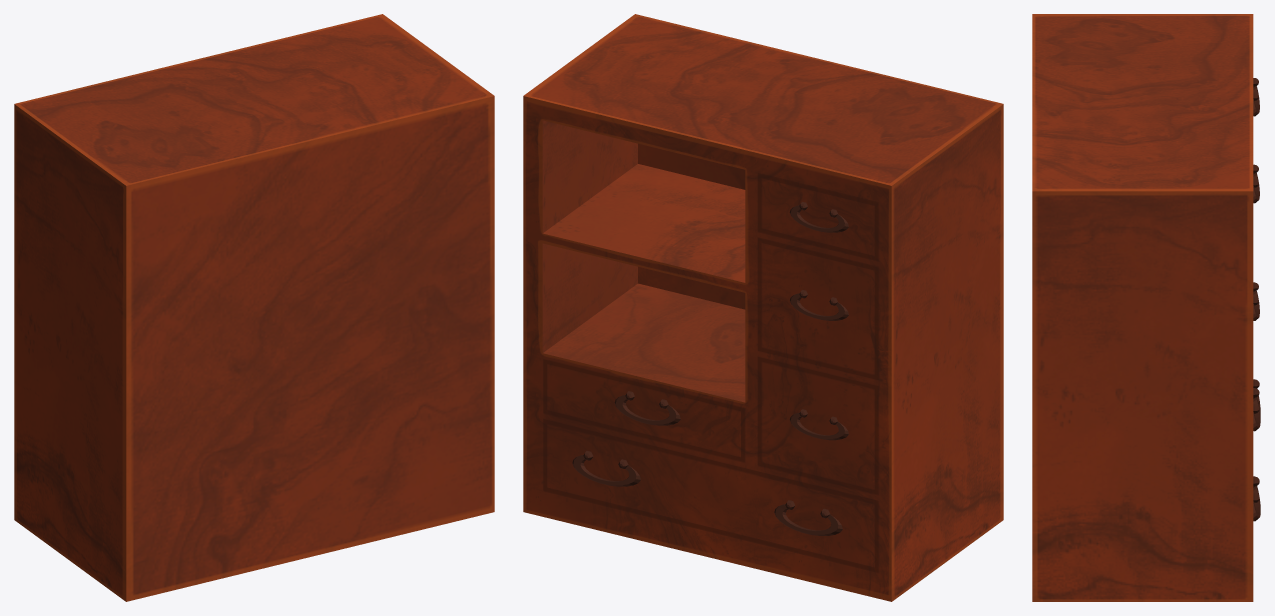
File: estanteria_2.fbx
The picture shows the model from 3 angles, left to right: view 1: azimuth 30°, elevation 25°; view 2: azimuth 150°, elevation 25°; view 3: azimuth 270°, elevation 25°; orthographic projection.
Parts seen in each view (by area): view 1: estanteria; view 2: estanteria; view 3: estanteria.
Boxes of the visible parts, <box> form: estanteria: <box>14,14,494,601</box>; estanteria: <box>523,14,1003,601</box>; estanteria: <box>1032,14,1260,601</box>.
Bounding box in the file's own units: 380 × 410 × 207.
